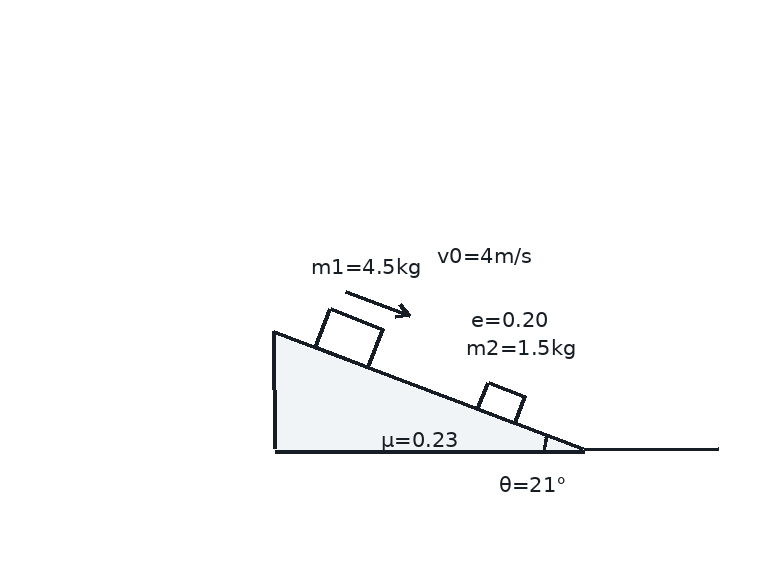block: (313, 307, 384, 369), (475, 380, 527, 425)
ramp: (272, 329, 586, 452)
